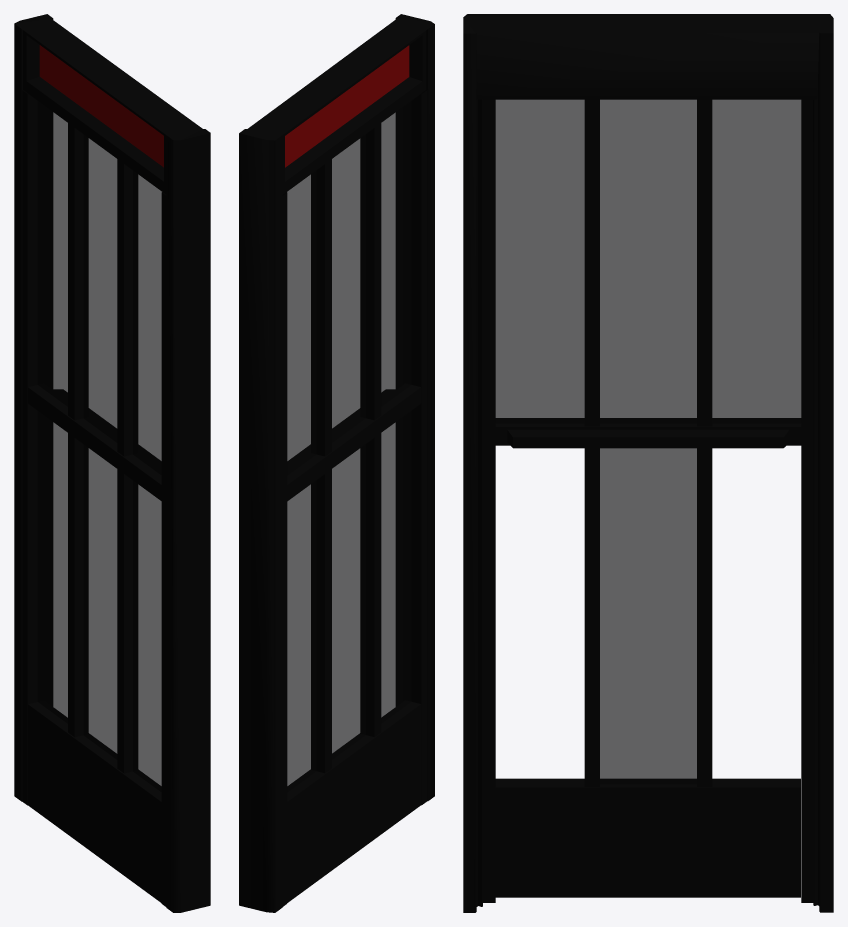
Rendered from DoorPhonebooth.fbx.
3 views of the same model, side by side, from view 1: azimuth 30°, elevation 25°; view 2: azimuth 150°, elevation 25°; view 3: azimuth 270°, elevation 25° (orthographic). The views are drawn at different scales.
Parts seen in each view (by area): view 1: Phonebooth_Box; view 2: Phonebooth_Box; view 3: Phonebooth_Box.
Part boxes in pixels (bbox=[...]): Phonebooth_Box: bbox=[14, 14, 210, 912]; Phonebooth_Box: bbox=[239, 14, 434, 912]; Phonebooth_Box: bbox=[463, 14, 833, 912].
Bounding box in the file's own units: 9.46 × 196 × 74.9.
